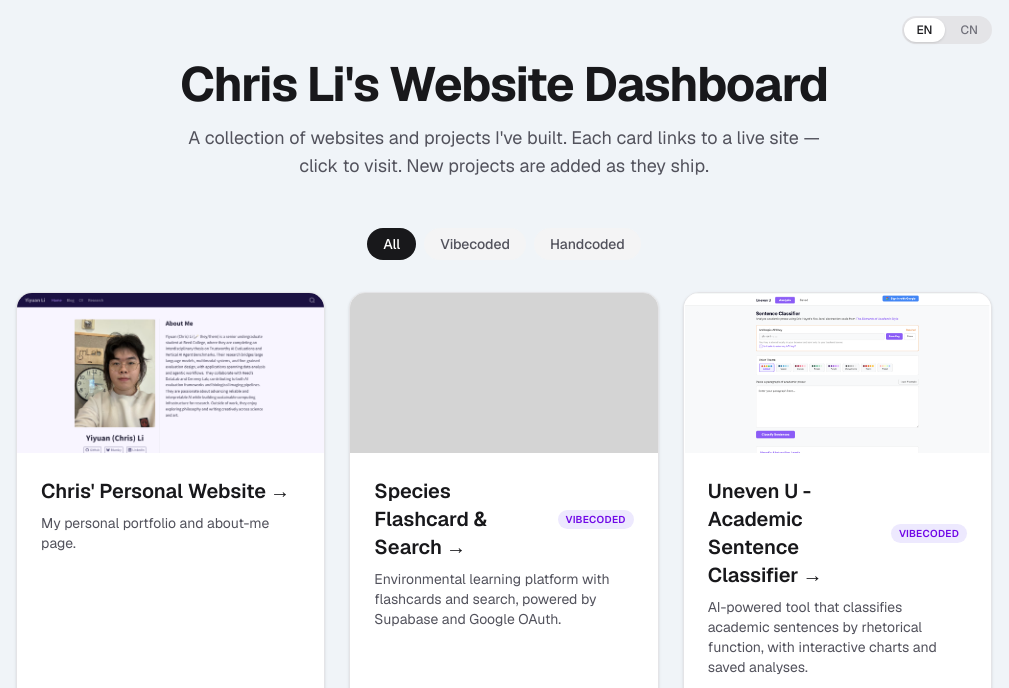
Test: Language toggle › switches to Chinese when CN is clicked
This screenshot has width=1009, height=688.
What coordinates should you click on to do the following:
click the button "CN"
I would click on:
 (969, 30)
Its box is [948, 18, 990, 42].
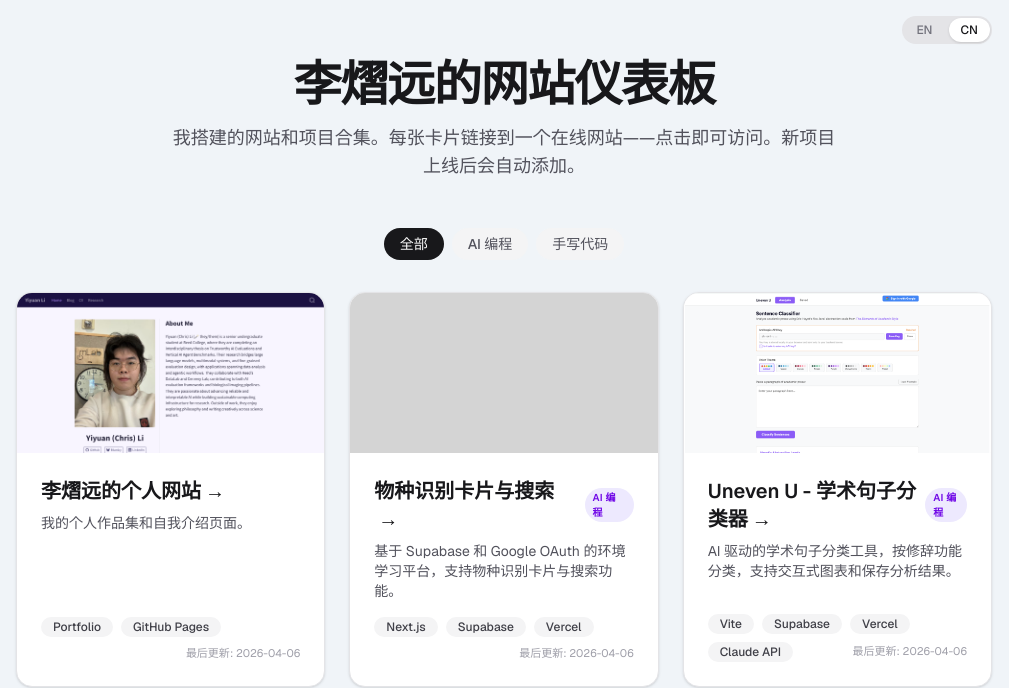
Check: the heading "李熠远的网站仪表板" is shown, box [293, 53, 715, 115]
Check: the text "我的个人作品集和自我介绍页面。" is shown, box [41, 514, 251, 532]
Check: the text "基于 Supabase 和 Google OAuth 的环境学习平台，支持物种识别卡片与搜索功能。" is shown, box [374, 541, 634, 601]
